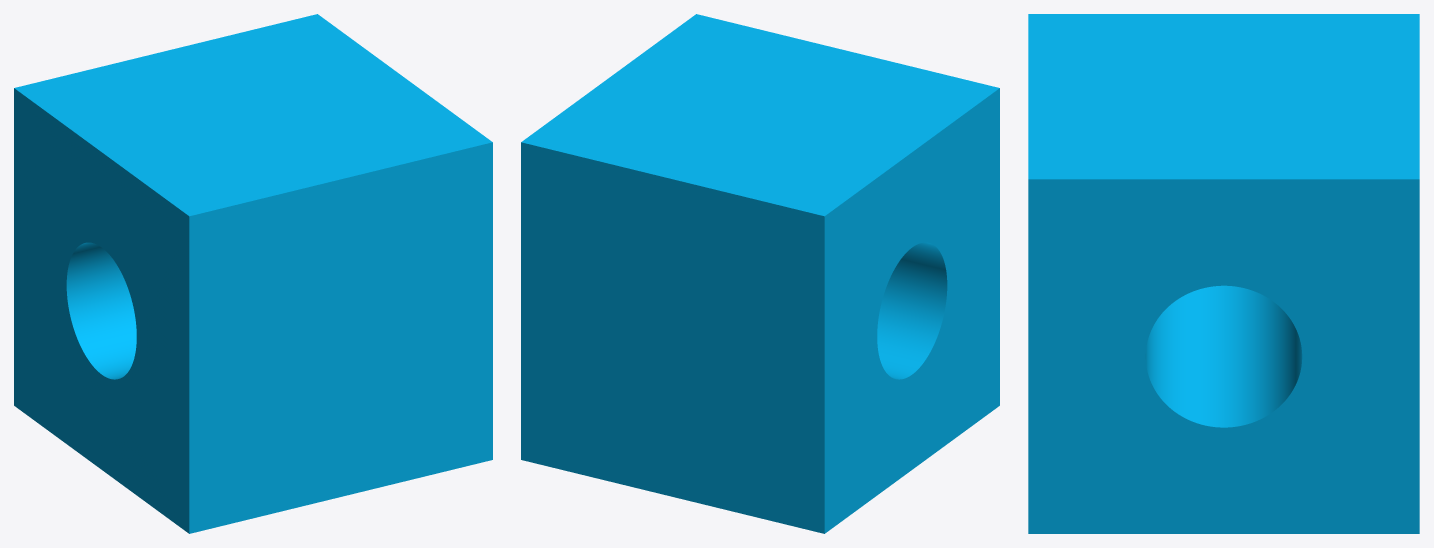
The model's file is gt_X_sag_yuzey_delik.gltf.
3 renders of one model, left to right at view 1: azimuth 30°, elevation 25°; view 2: azimuth 150°, elevation 25°; view 3: azimuth 270°, elevation 25°, orthographic. The views are drawn at different scales.
Visible parts, largest first — view 1: Gövde; view 2: Gövde; view 3: Gövde.
Part boxes in pixels (x1,y1,x2,y2): Gövde: (14, 14, 492, 533); Gövde: (521, 14, 999, 533); Gövde: (1028, 14, 1419, 533).
Bounding box in the file's own units: 0.01 × 0.01 × 0.01.
